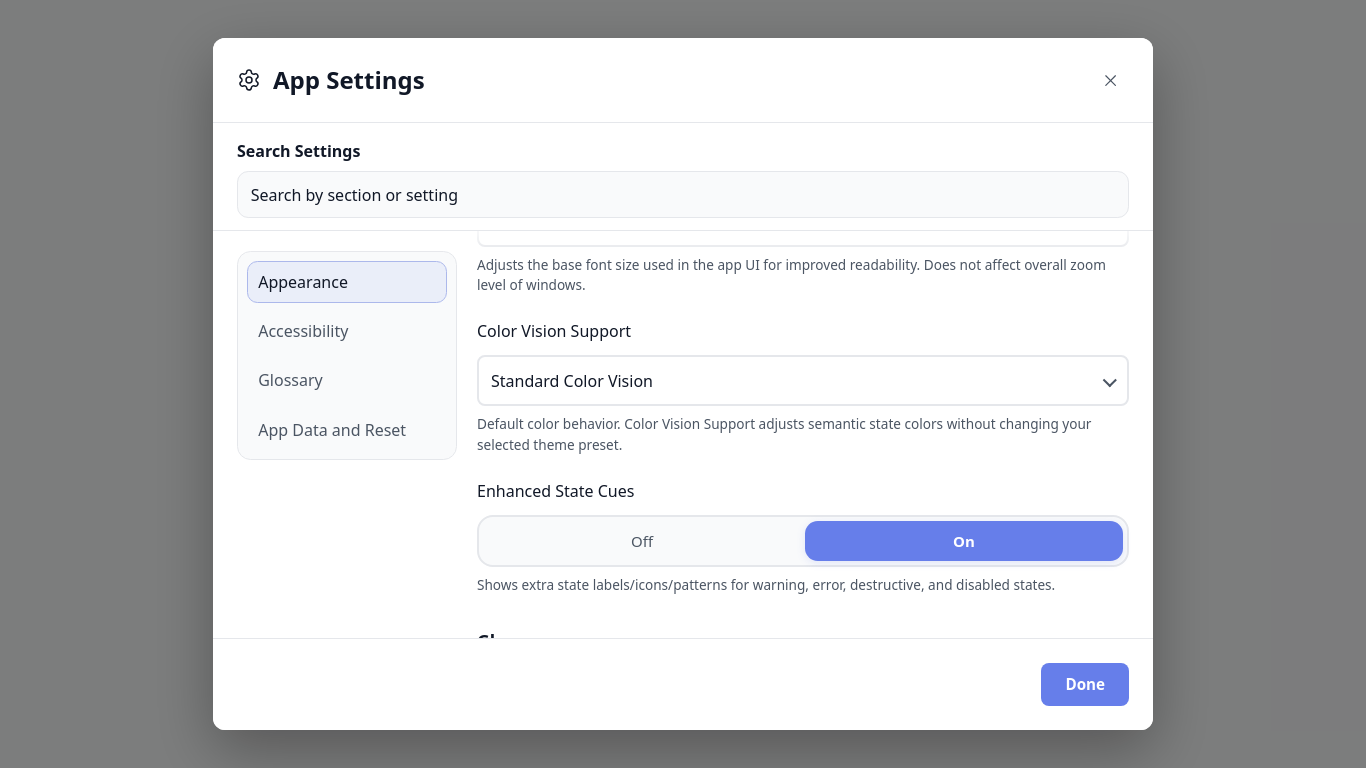
it: SettingsModal › persists color vision support selection
(page scrolled)
Select "Deuteranopia Support" in the dropdown labelled "Color Vision Support": coordinates (803, 381) [477,355,1129,406]
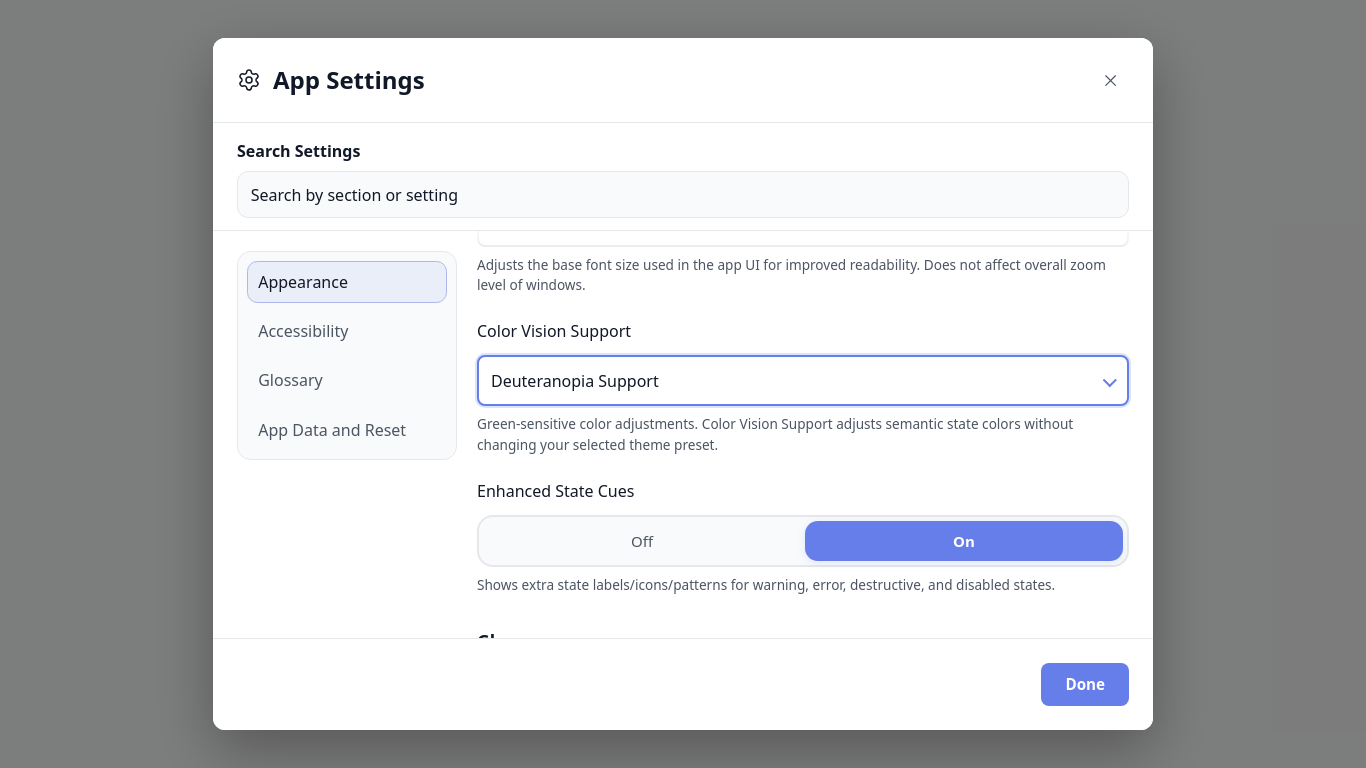
Result: the text "Green-sensitive color adjustments." is shown at [477,414,698,433]
